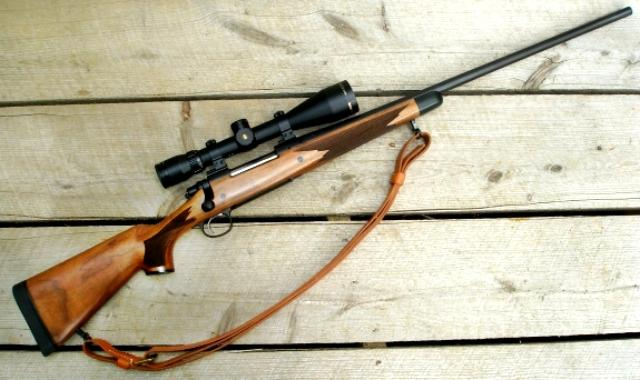rifle: (12, 7, 632, 359)
